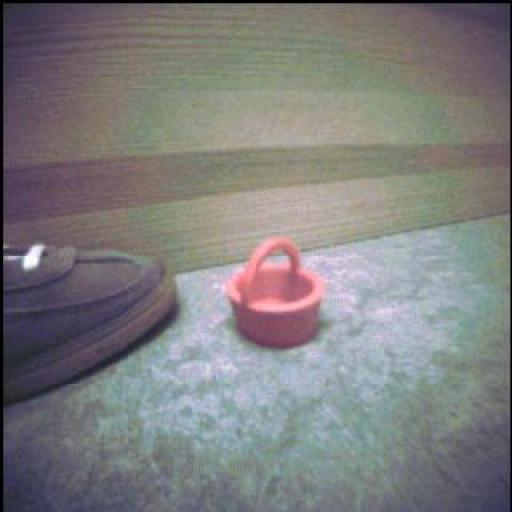Bucket: (227, 238, 326, 348)
